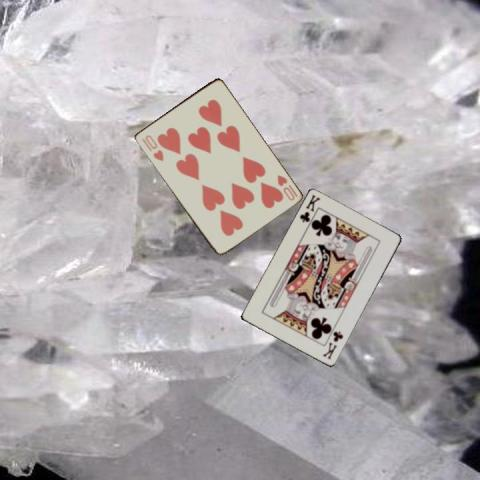10h: (138, 131, 164, 163), (274, 171, 299, 202)
Kc: (320, 329, 345, 361), (297, 192, 321, 224)
